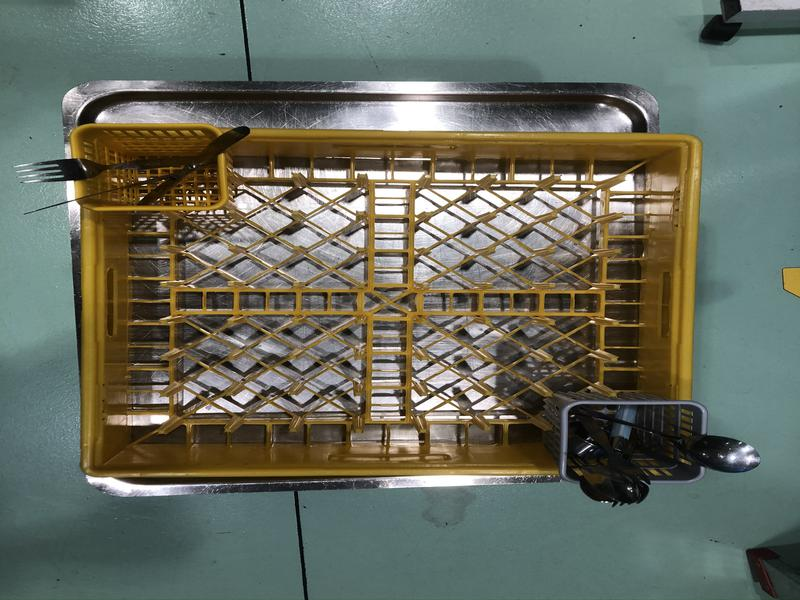Cutlery: (542, 391, 762, 507), (16, 124, 252, 217)
